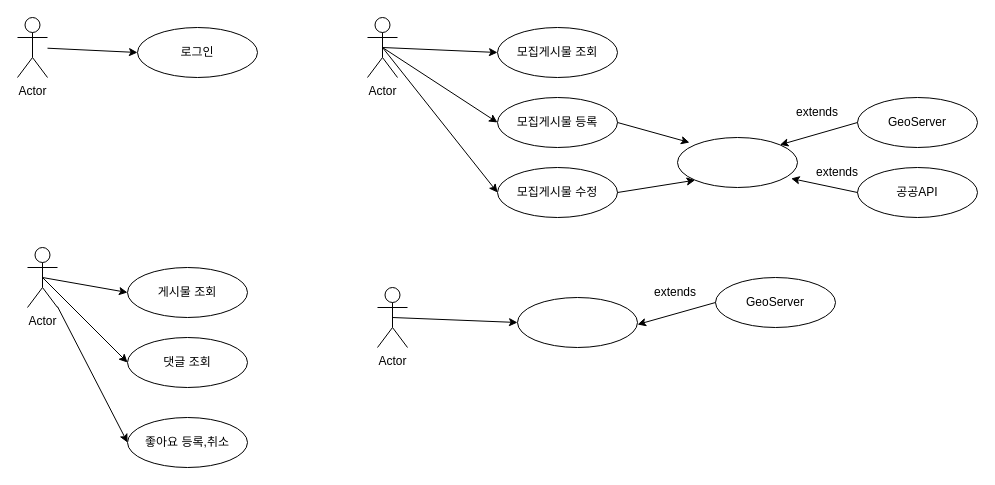
This 995x485 diagram has some shape labels left out. Here are the shapes that lost their labels. From the top down, the centre of each, then its label:
At [737,162]: "산 검색".
At [577,322]: "지역통계".
